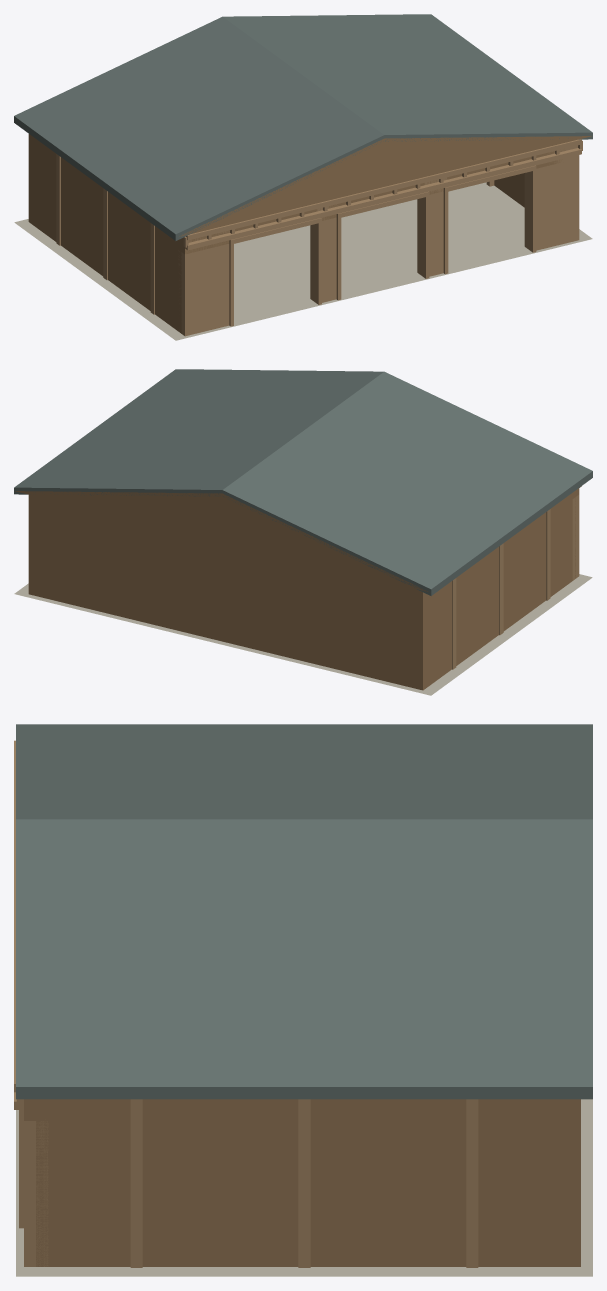
File: cart_garage_01.glb
3 views of the same model, one above another, from view 1: azimuth 30°, elevation 25°; view 2: azimuth 150°, elevation 25°; view 3: azimuth 270°, elevation 25° (orthographic). The views are drawn at different scales.
Parts seen in each view (by area): view 1: Cart_garage_01; view 2: Cart_garage_01; view 3: Cart_garage_01.
Boxes of the visible parts, bbox=[...] form: Cart_garage_01: bbox=[14, 14, 592, 340]; Cart_garage_01: bbox=[14, 369, 592, 695]; Cart_garage_01: bbox=[14, 724, 592, 1276].
Size of the model in its own units: 12.8 by 4.54 by 8.63.
